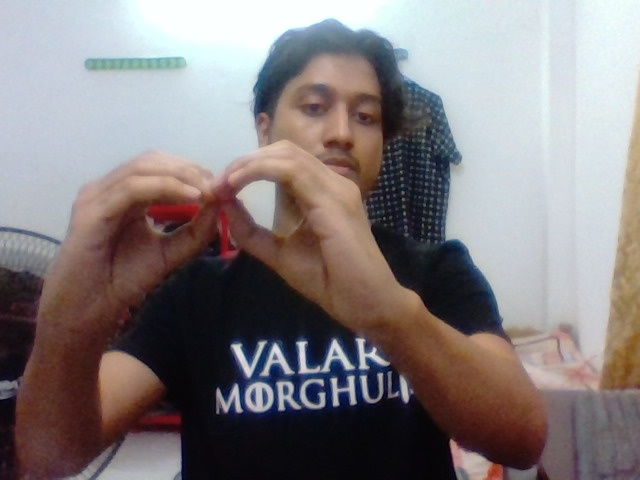B: (61, 132, 394, 354)
